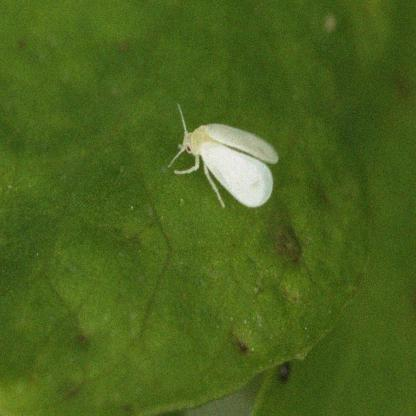whitefly: (168, 106, 278, 206)
